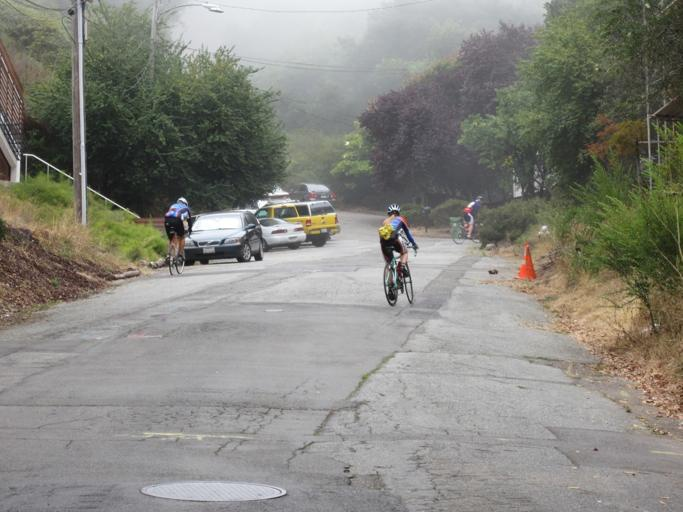non-vehicle: (382, 245, 416, 306), (165, 224, 188, 275), (451, 217, 484, 244)
